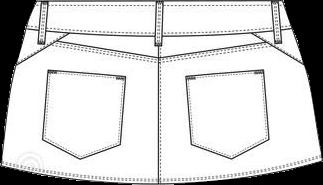Hemline: (0, 157, 321, 184)
Waistline: (26, 27, 292, 38), (36, 0, 283, 3)
